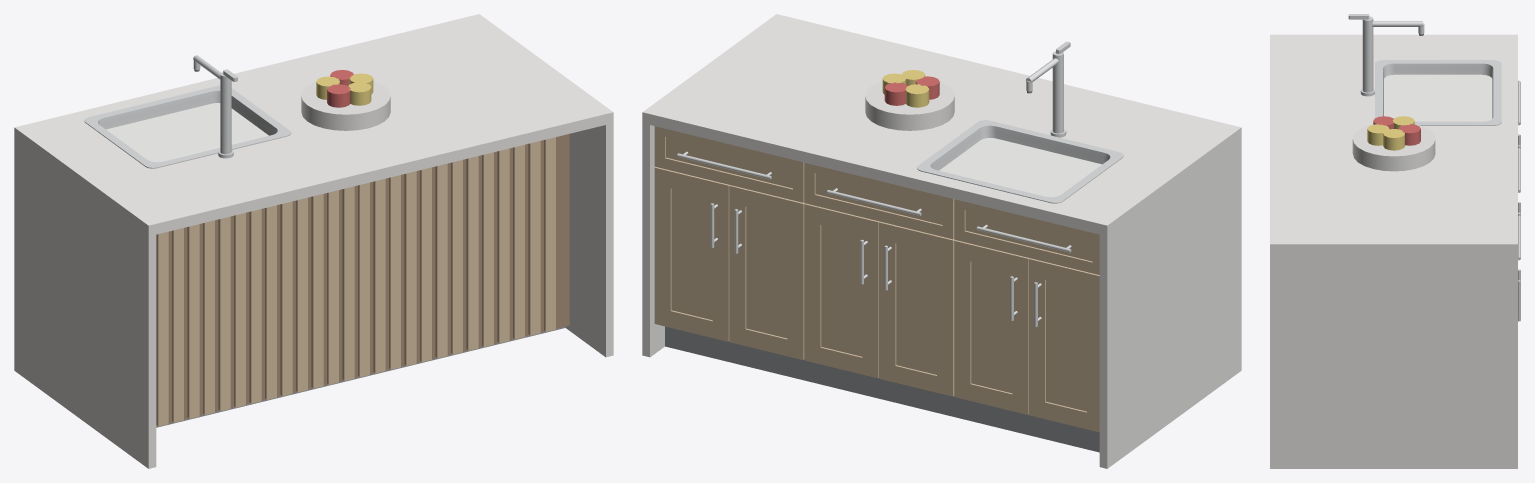
3 views of the same model, side by side, from view 1: azimuth 30°, elevation 25°; view 2: azimuth 150°, elevation 25°; view 3: azimuth 270°, elevation 25° (orthographic). The views are drawn at different scales.
Visible parts, largest first — view 1: Đảo bếp Dài=1800; Rộng=900; view 2: Đảo bếp Dài=1800; Rộng=900; view 3: Đảo bếp Dài=1800; Rộng=900.
Part boxes in pixels (x1,y1,x2,y2): Đảo bếp Dài=1800; Rộng=900: (14,14,613,468); Đảo bếp Dài=1800; Rộng=900: (642,14,1241,468); Đảo bếp Dài=1800; Rộng=900: (1270,14,1520,468).
Size of the model in its own units: 1.8 by 1.21 by 0.91.
